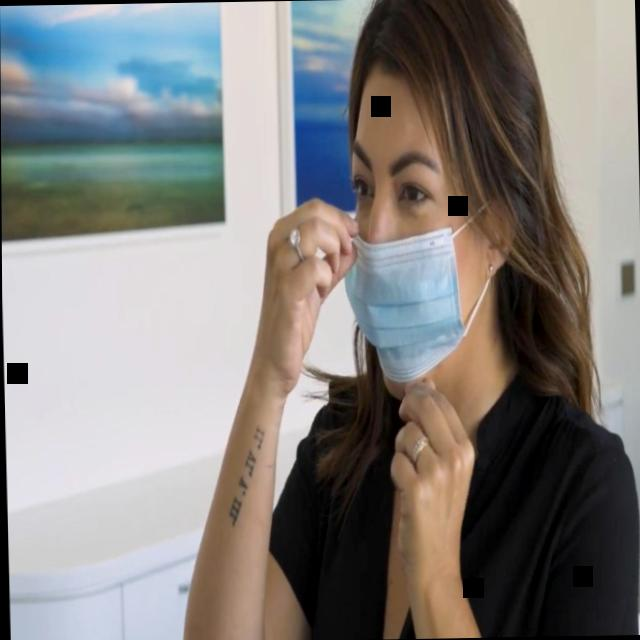Mask: (338, 55, 499, 403)
